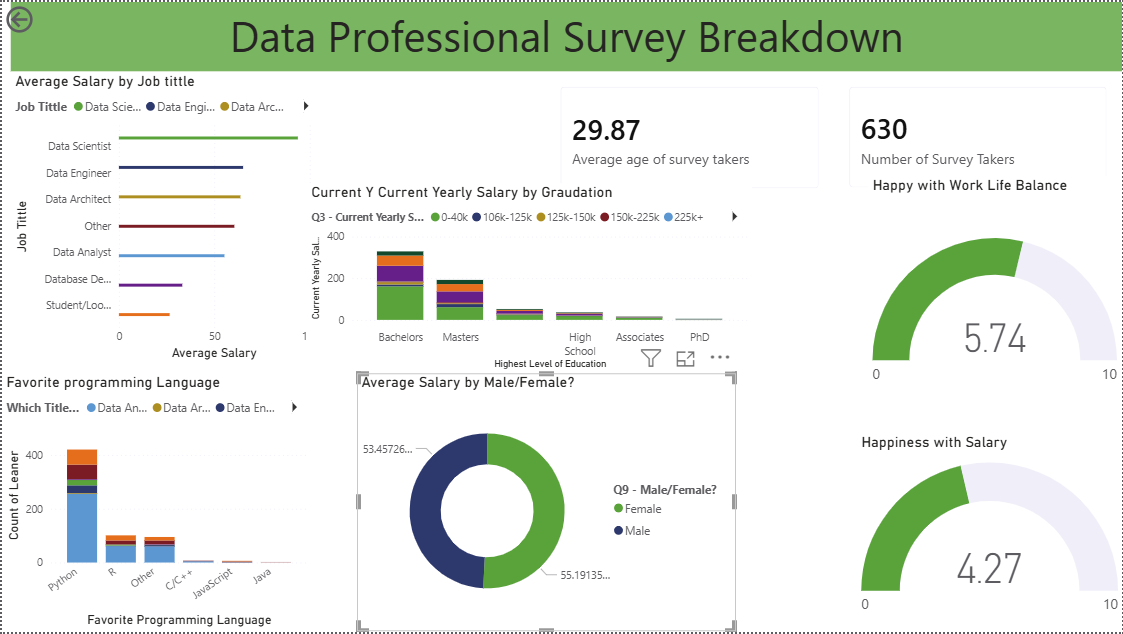

This screenshot's page, from the dashboard's own definition file:
{"tool":"powerbi","page":{"name":"Page 1","canvas":[1280,720],"ordinal":0},"visuals":[{"type":"textbox","box":[9.6,0,1270.7,79.6],"z":0},{"type":"actionButton","box":[0,0,100,40],"z":1000},{"type":"cardVisual","fields":{"Data":["CountNonNull(Data Professional Survey.Unique ID)"]},"box":[951.6,79.7,328.4,149.5],"z":2000},{"type":"cardVisual","fields":{"Data":["Avg(Data Professional Survey.Q10 - Current Age)"]},"box":[621.8,79.7,329.8,150.9],"z":3000},{"type":"clusteredBarChart","title":"Average Salary by Job tittle","fields":{"Category":["Data Professional Survey.Q1 - Which Title Best Fits your Current Role?.1"],"Y":["Avg(Data Professional Survey.Average Salary)"],"Series":["Data Professional Survey.Q1 - Which Title Best Fits your Current Role?.1"]},"box":[9.8,80.1,356.9,334.4],"z":4000},{"type":"columnChart","title":"Favorite programming Language","fields":{"Category":["Data Professional Survey.Q5 - Favorite Programming Language.1"],"Y":["CountNonNull(Data Professional Survey.Unique ID)"],"Series":["Data Professional Survey.Q1 - Which Title Best Fits your Current Role?.1"]},"box":[0,424.3,354.1,295.1],"z":5000},{"type":"gauge","title":"Happy with Work Life Balance","fields":{"Y":["Avg(Data Professional Survey.Q6 - How Happy are you in your Current Position with the following? (Work/Life Balance))"],"MinValue":["Min(Data Professional Survey.Q6 - How Happy are you in your Current Position with the following? (Work/Life Balance))"],"MaxValue":["Max(Data Professional Survey.Q6 - How Happy are you in your Current Position with the following? (Work/Life Balance))"]},"box":[990.6,198.1,289.4,295.1],"z":6000},{"type":"gauge","title":"Happiness with Salary","fields":{"Y":["Avg(Data Professional Survey.Q6 - How Happy are you in your Current Position with the following? (Salary))"],"MinValue":["Min(Data Professional Survey.Q6 - How Happy are you in your Current Position with the following? (Salary))"],"MaxValue":["Max(Data Professional Survey.Q6 - How Happy are you in your Current Position with the following? (Salary))"]},"box":[976.5,493.2,303.5,226.2],"z":7000},{"type":"donutChart","title":"Average Salary by Male/Female?","fields":{"Category":["Data Professional Survey.Q9 - Male/Female?"],"Y":["Avg(Data Professional Survey.Average Salary)"]},"box":[424.3,414.5,432.8,295.1],"z":8000},{"type":"columnChart","title":"Current Y Current Yearly Salary by Graudation","fields":{"Category":["Data Professional Survey.Q12 - Highest Level of Education"],"Y":["CountNonNull(Data Professional Survey.Q3 - Current Yearly Salary (in USD))"],"Series":["Data Professional Survey.Q3 - Current Yearly Salary (in USD)"]},"box":[348.6,207.1,508.6,217.1],"z":8001}]}

Visuals, with their boxes in screenshot pixels (x1, y1, x2, y2), scaled from the page's 1280x720 canvas onto the 1123x634 screenshot:
textbox: 8:0:1122:70
actionButton: 0:0:88:35
cardVisual - CountNonNull(Data Professional Survey.Unique ID): 835:70:1122:202
cardVisual - Avg(Data Professional Survey.Q10 - Current Age): 546:70:835:203
"Average Salary by Job tittle" clusteredBarChart: 9:71:322:365
"Favorite programming Language" columnChart: 0:374:311:633
"Happy with Work Life Balance" gauge: 869:174:1122:434
"Happiness with Salary" gauge: 857:434:1122:633
"Average Salary by Male/Female?" donutChart: 372:365:752:625
"Current Y Current Yearly Salary by Graudation" columnChart: 306:182:752:374
